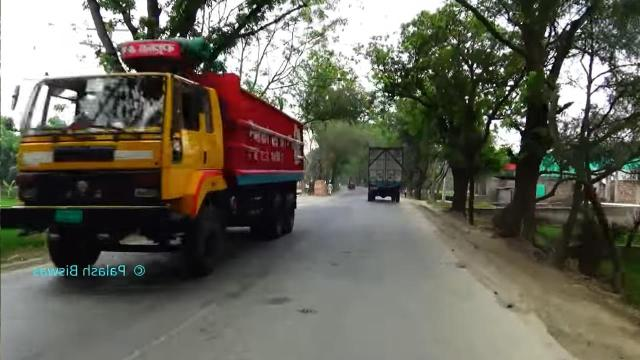truck: (2, 24, 310, 278), (360, 138, 408, 206)
